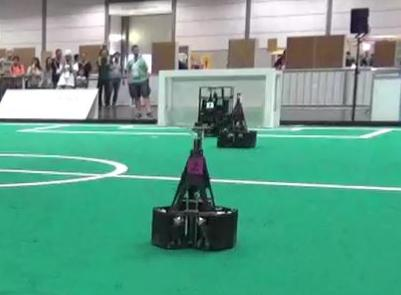robot: (148, 127, 242, 252), (215, 90, 260, 151)
